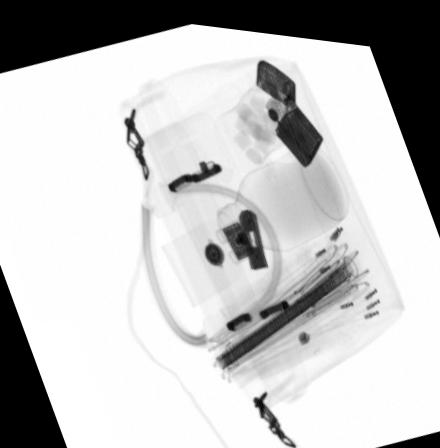Lighter: (254, 51, 323, 160)
